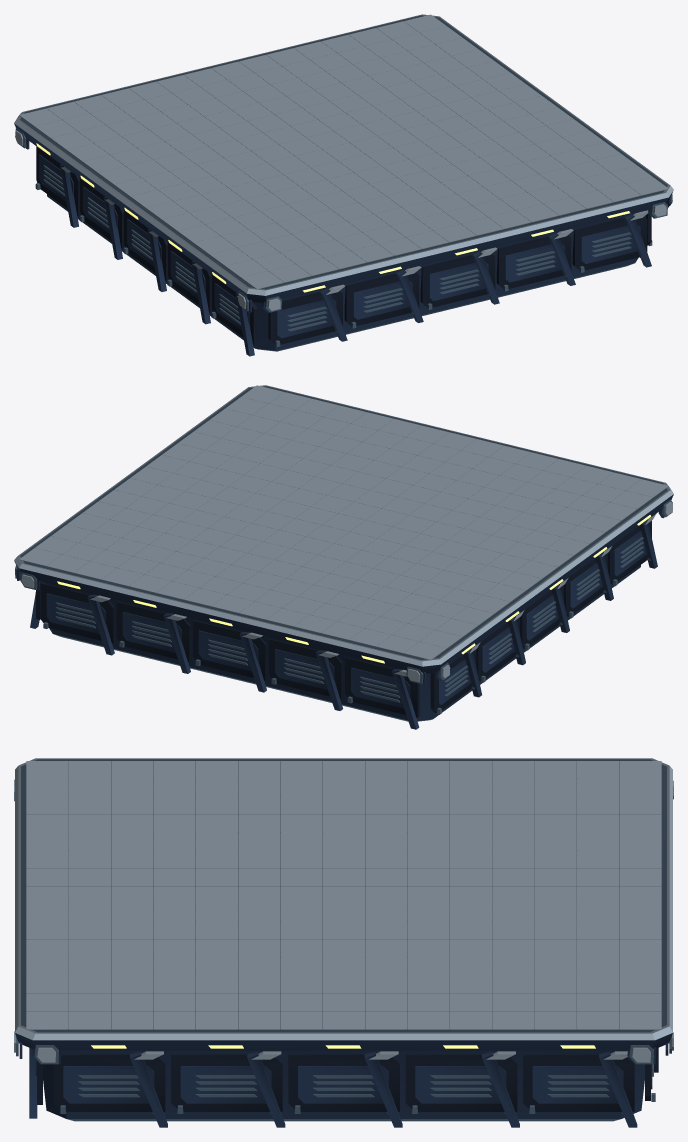
File: station-deck.glb
3 views of the same model, one above another, from view 1: azimuth 30°, elevation 25°; view 2: azimuth 150°, elevation 25°; view 3: azimuth 270°, elevation 25° (orthographic). The views are drawn at different scales.
Parts seen in each view (by area): view 1: station-deck; view 2: station-deck; view 3: station-deck.
Part boxes in pixels (bbox=[...]): station-deck: bbox=[14, 14, 673, 356]; station-deck: bbox=[14, 385, 673, 729]; station-deck: bbox=[14, 758, 673, 1127].
Bounding box in the file's own units: 20.25 × 3.53 × 20.25.
